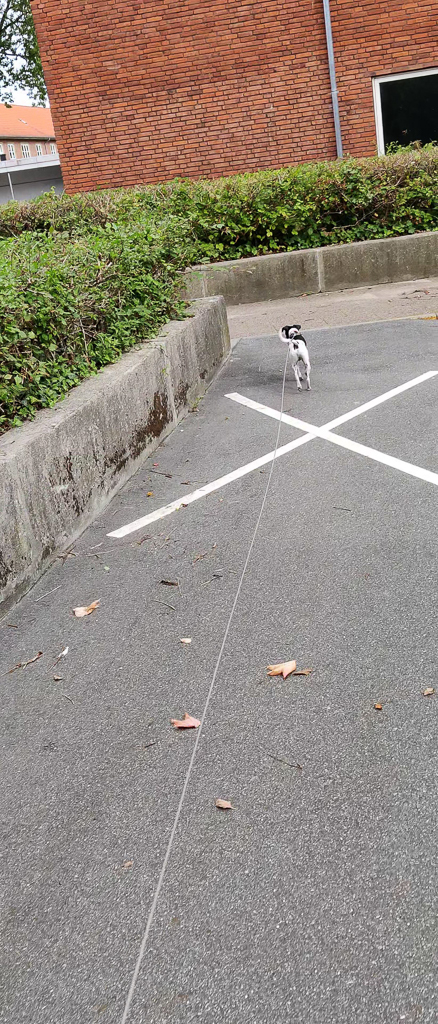Dog: (273, 320, 323, 395)
